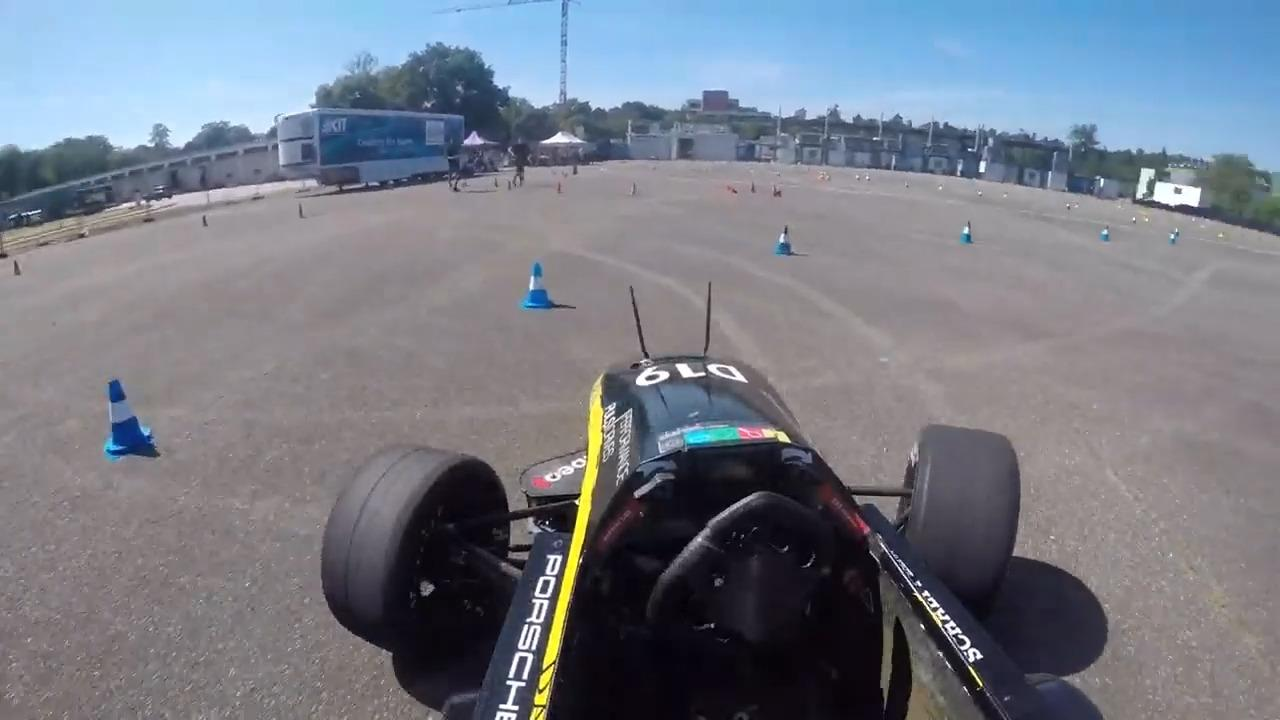blue_cone: (97, 378, 156, 458), (516, 259, 555, 311), (770, 222, 794, 257), (960, 220, 975, 246), (1100, 224, 1111, 243), (1167, 231, 1177, 246)
